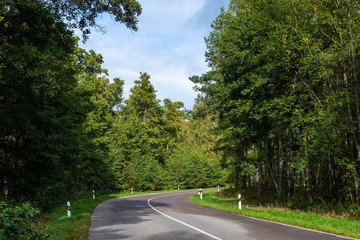rightTrun: (94, 174, 208, 240)
